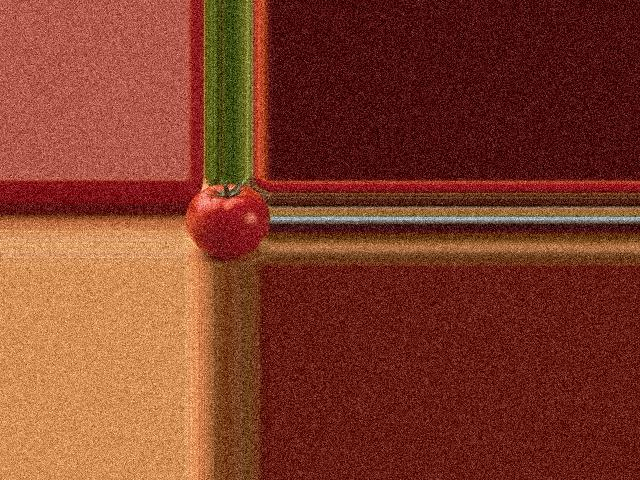tomato: (185, 184, 269, 257)
